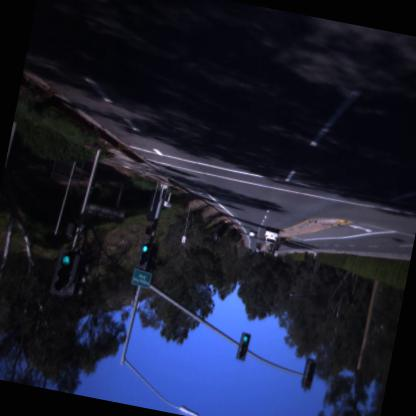trafficlight: (50, 249, 76, 298), (236, 328, 251, 361), (301, 360, 317, 390), (136, 240, 152, 269)
